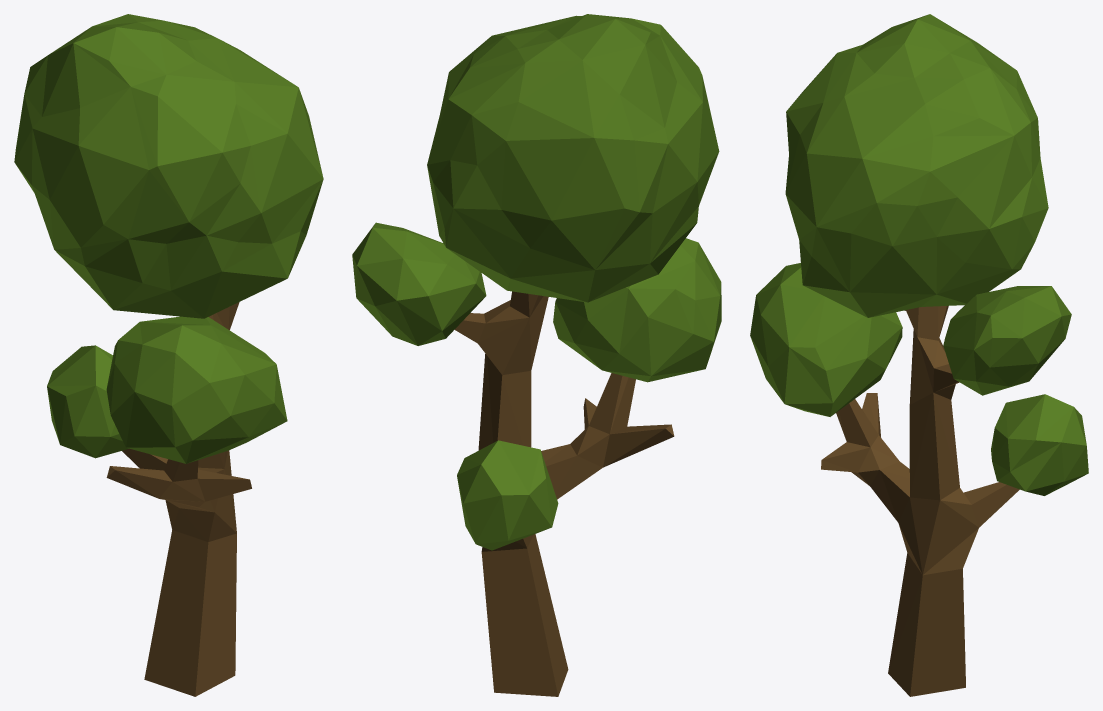
File: tree2.glb
3 views of the same model, side by side, from view 1: azimuth 30°, elevation 25°; view 2: azimuth 150°, elevation 25°; view 3: azimuth 270°, elevation 25° (orthographic). The views are drawn at different scales.
Parts seen in each view (by area): view 1: Tree1_2; view 2: Tree1_2; view 3: Tree1_2.
Part boxes in pixels (bbox=[...]): Tree1_2: bbox=[14, 14, 323, 696]; Tree1_2: bbox=[352, 14, 721, 696]; Tree1_2: bbox=[750, 14, 1088, 696].
Size of the model in its own units: 2.62 by 5.96 by 2.92.
